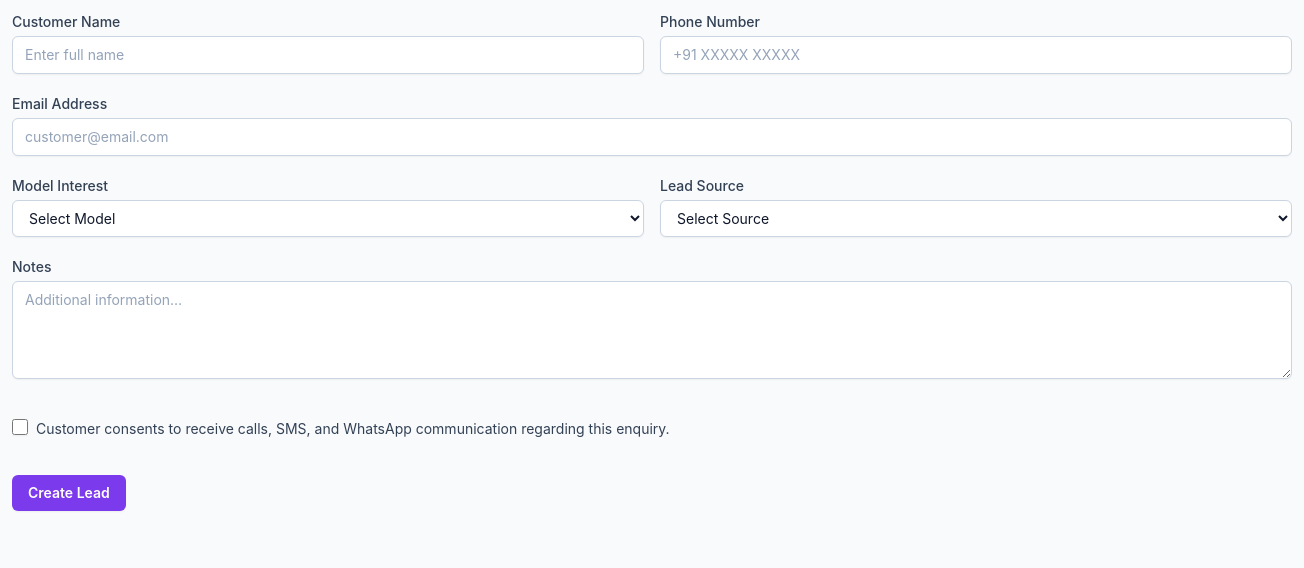
it: NewLeadForm (simplified) › blocks submission while consent is unchecked, even with every other field valid
Step 1. Type "Asha Rao" into the field labelled "Customer Name" → (328, 55), box [12, 36, 644, 74]
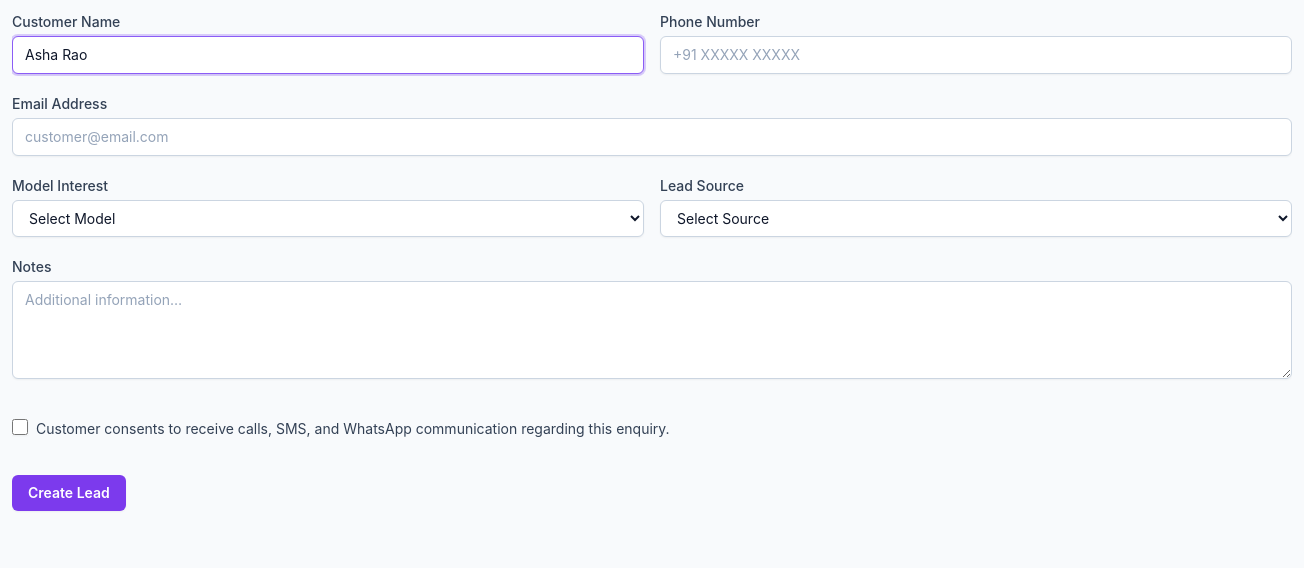
Step 2. Type "9876543210" into the field labelled "Phone Number" → (976, 55), box [660, 36, 1292, 74]
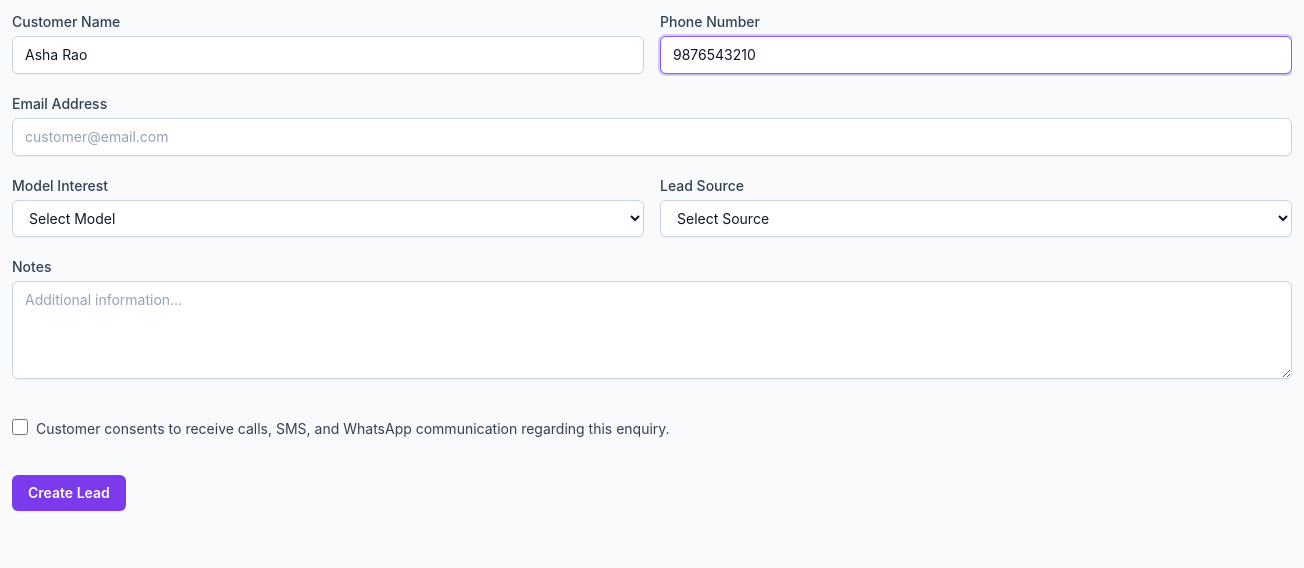
Step 3. Select "Compact Hatchback LX" in the dropdown labelled "Model Interest" → (328, 218), box [12, 200, 644, 237]
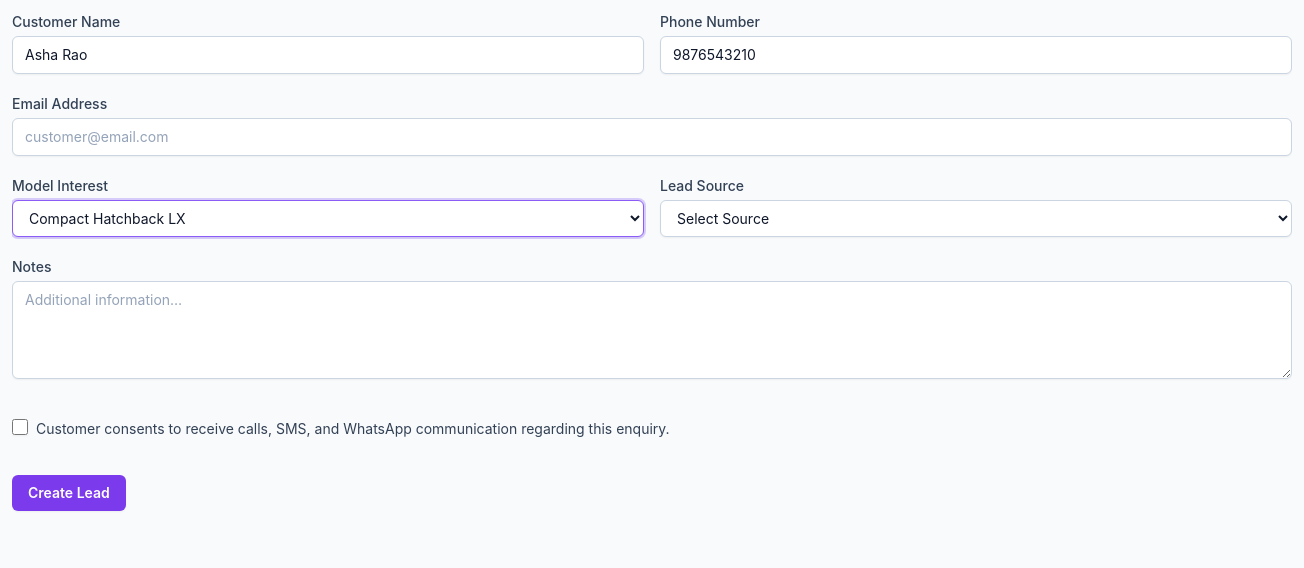
Step 4. Select "Walk-in" in the dropdown labelled "Lead Source" → (976, 218), box [660, 200, 1292, 237]
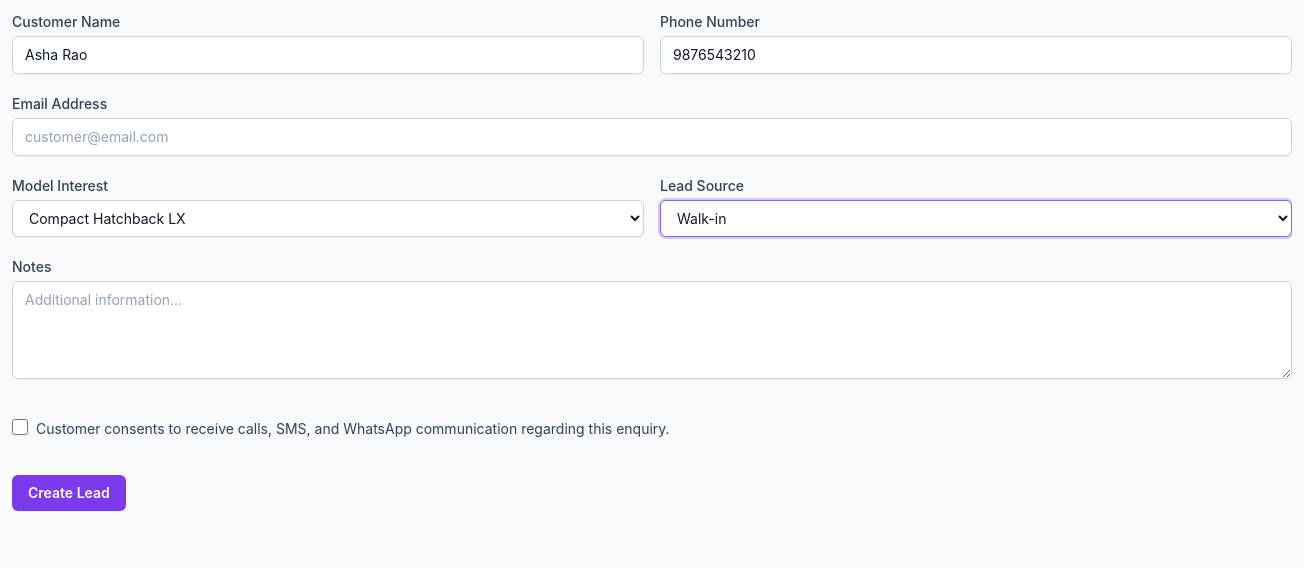
Step 5. Click the button "Create Lead" → (69, 493), box [12, 475, 126, 511]
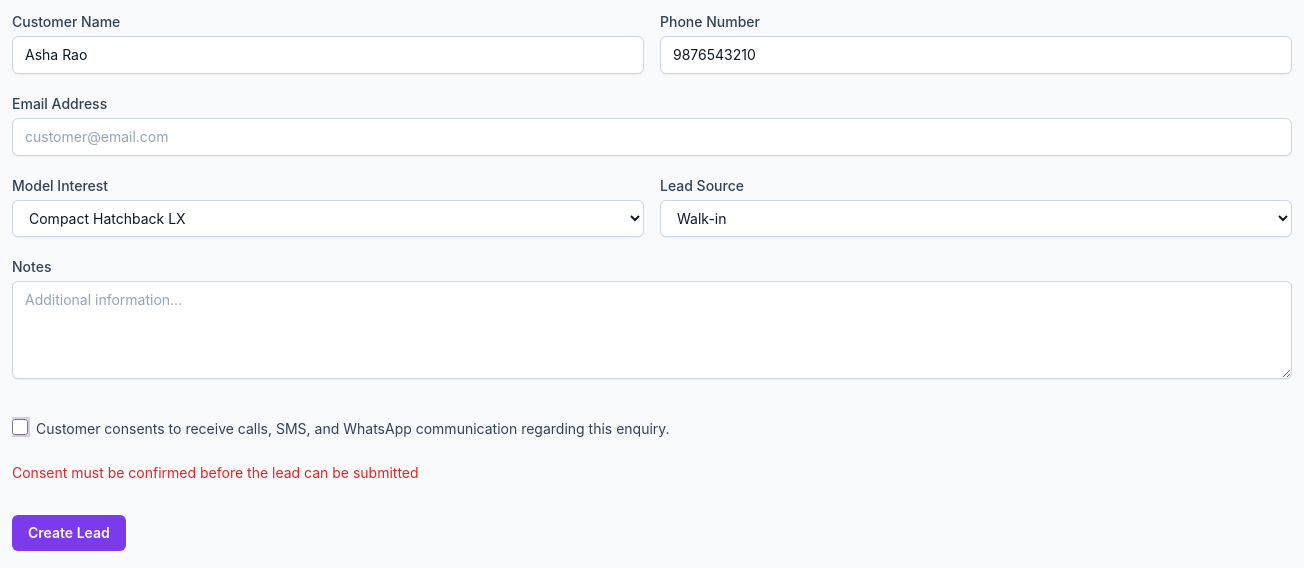
Expected: the text "Consent must be confirmed before the lead can be submitted" is shown, [12, 464, 419, 481]
